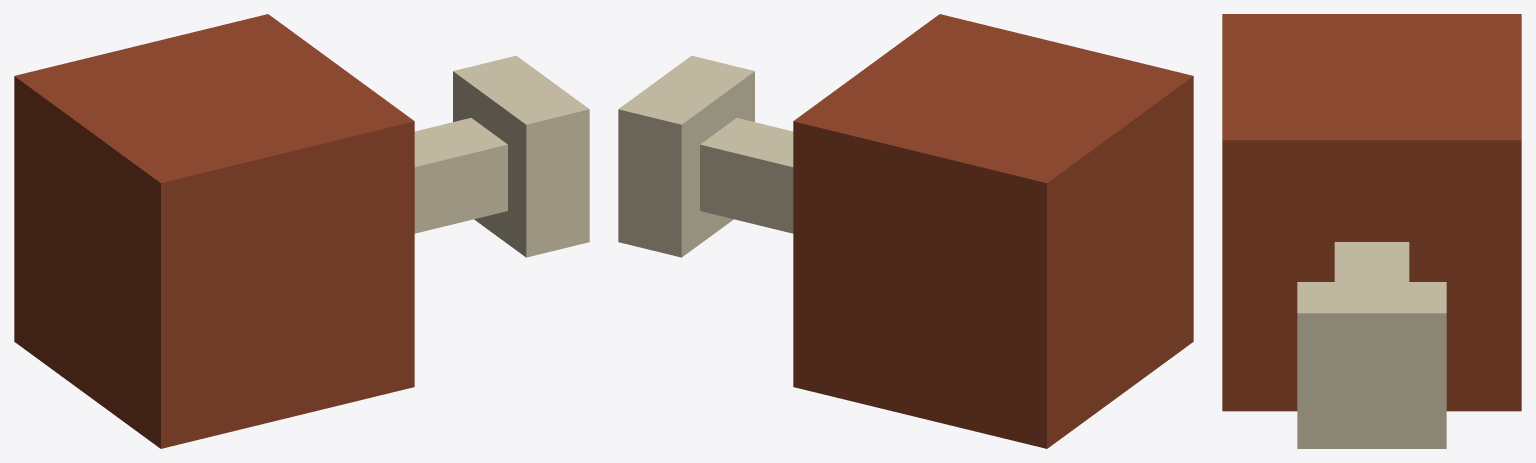
Rendered from pickup_roast.glb.
The picture shows the model from 3 angles, left to right: view 1: azimuth 30°, elevation 25°; view 2: azimuth 150°, elevation 25°; view 3: azimuth 270°, elevation 25°; orthographic projection.
Parts seen in each view (by area): view 1: pickup_roast; view 2: pickup_roast; view 3: pickup_roast.
Part boxes in pixels (x1,y1,x2,y2): pickup_roast: (14, 14, 589, 448); pickup_roast: (618, 14, 1193, 448); pickup_roast: (1222, 14, 1521, 448).
Bounding box in the file's own units: 0.44 × 0.24 × 0.24.
Materials: 1 (1 with a texture image).
